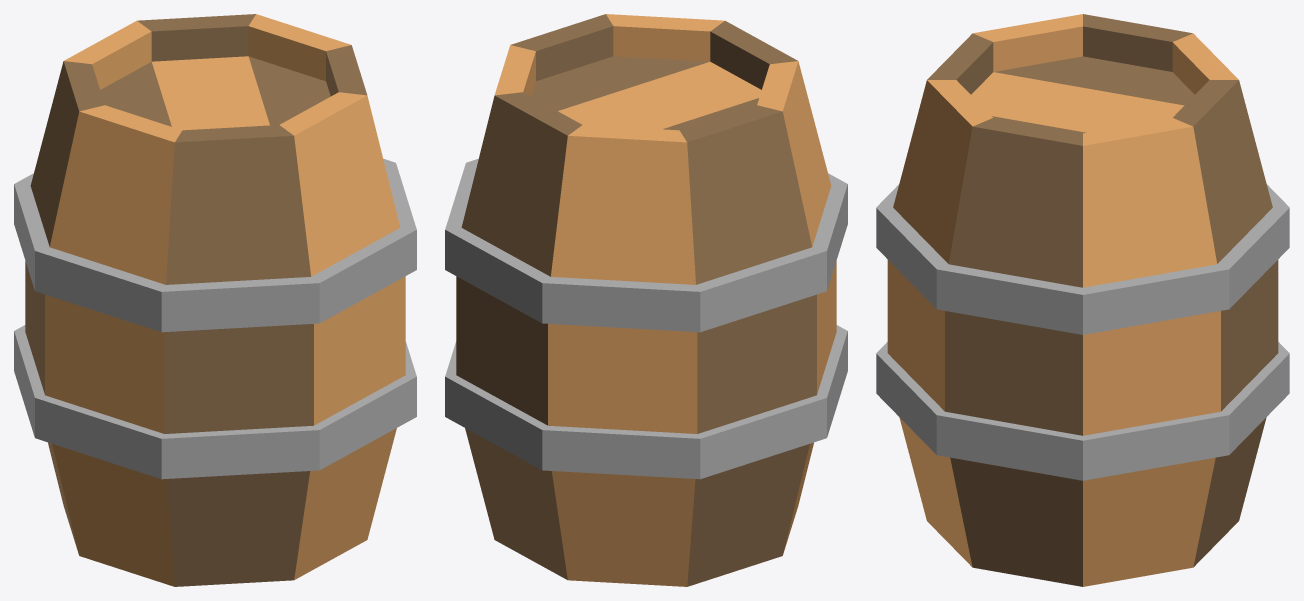
File: Assets.fbx_Barrel.fbx
3 views of the same model, side by side, from view 1: azimuth 30°, elevation 25°; view 2: azimuth 150°, elevation 25°; view 3: azimuth 270°, elevation 25° (orthographic).
Parts seen in each view (by area): view 1: Barrel; view 2: Barrel; view 3: Barrel.
Boxes of the visible parts, bbox=[...] form: Barrel: bbox=[14, 14, 416, 586]; Barrel: bbox=[445, 14, 847, 586]; Barrel: bbox=[876, 14, 1289, 586].
Bounding box in the file's own units: 68.86 × 81.01 × 68.86.
